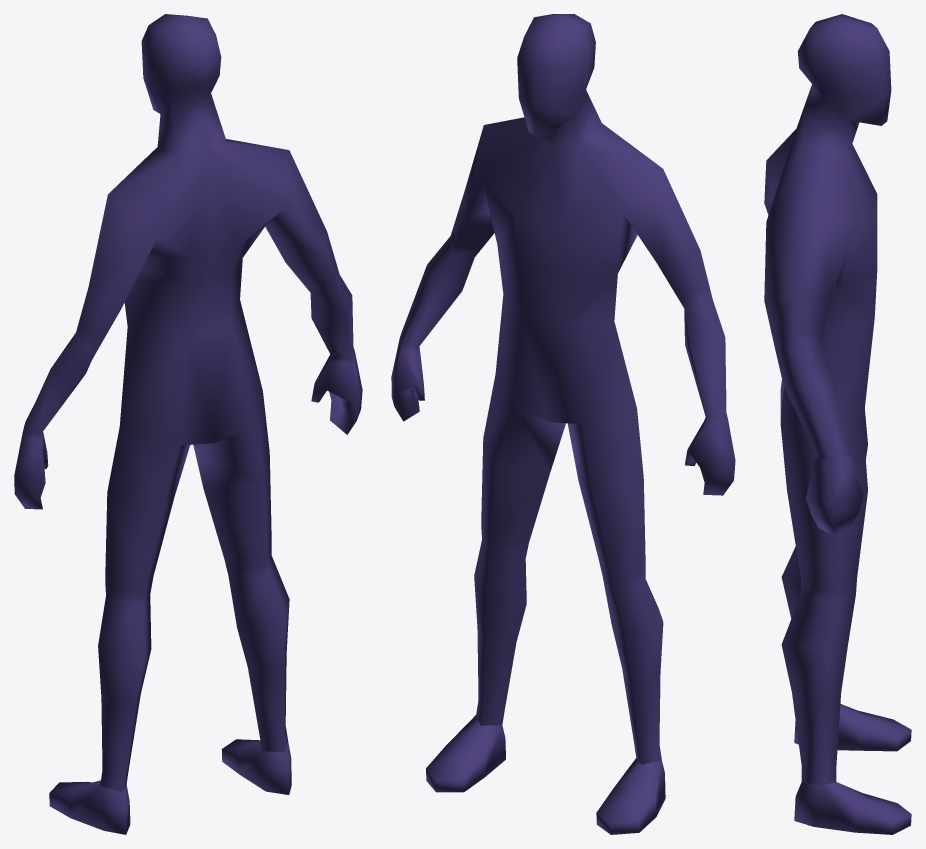
File: human.glb
3 renders of one model, left to right at view 1: azimuth 30°, elevation 25°; view 2: azimuth 150°, elevation 25°; view 3: azimuth 270°, elevation 25°, orthographic. The views are drawn at different scales.
Parts seen in each view (by area): view 1: Object_38; view 2: Object_38; view 3: Object_38.
Part boxes in pixels (x1,y1,x2,y2): Object_38: (14,14,362,834); Object_38: (391,14,735,834); Object_38: (764,14,911,834).
Size of the model in its own units: 0.8105 by 1.74 by 0.3034.
